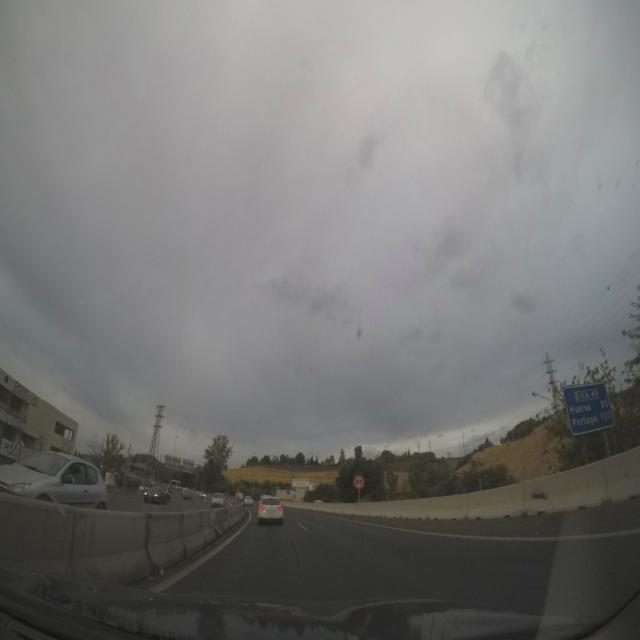car: (8, 453, 108, 510), (257, 496, 284, 525), (142, 484, 170, 505), (210, 492, 227, 508), (182, 487, 192, 501), (243, 495, 253, 506), (198, 492, 206, 501)
